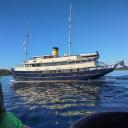cruises: (9, 46, 128, 84)
